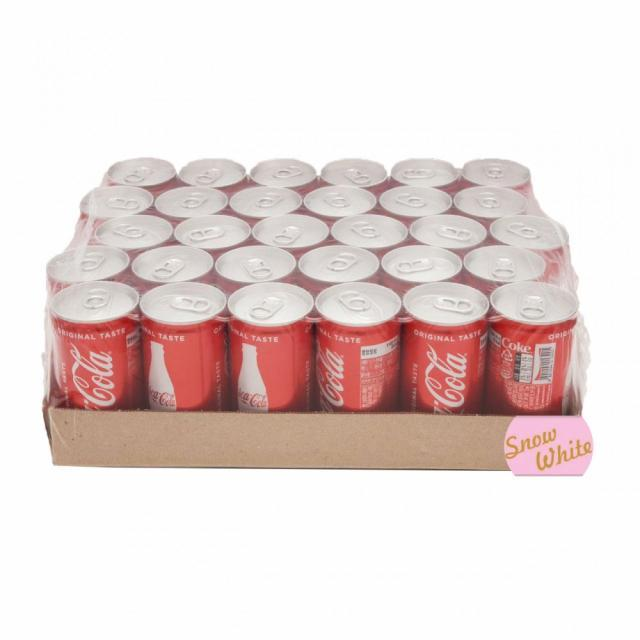coca-cola: (401, 286, 491, 418), (314, 285, 402, 417), (491, 288, 582, 412), (50, 290, 140, 410), (232, 289, 316, 411), (141, 293, 225, 411)
